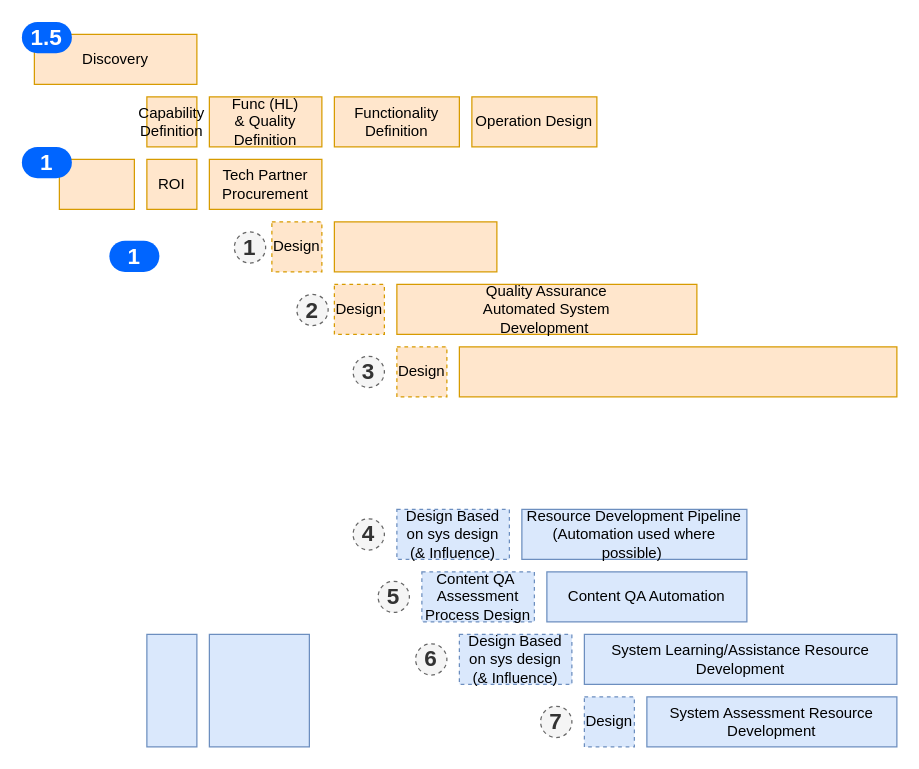
Some shapes in this 919 by 769 pixel diagram are drawn without their labels. The centre of each missing label's shape, as x and y in pixels:
"Business Service Platform Development" goes at (677,371).
"Delivery Automation Development" goes at (415,246).
"Engagement" goes at (258,690).
"RFI" goes at (96,183).
"RFP" goes at (171,690).
